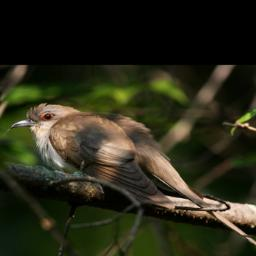Cuckoo: (8, 102, 256, 256)
